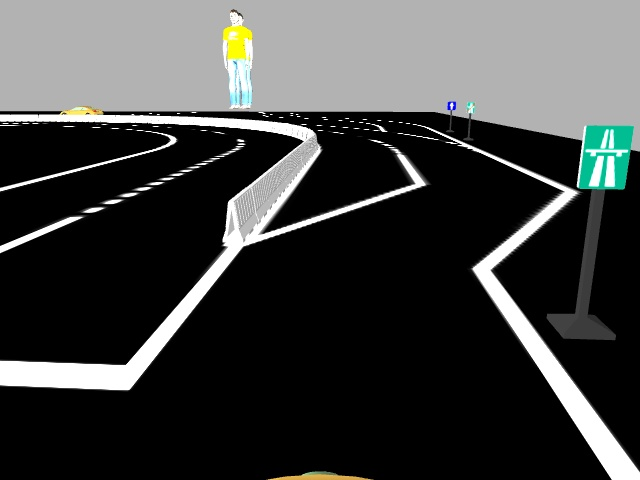HighwayEntrance: (575, 123, 634, 187)
